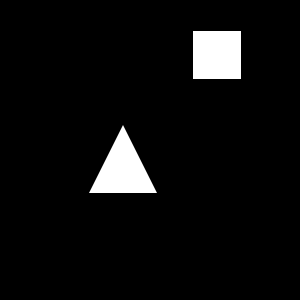circle: (193, 31, 241, 79)
triangle: (89, 125, 157, 193)
